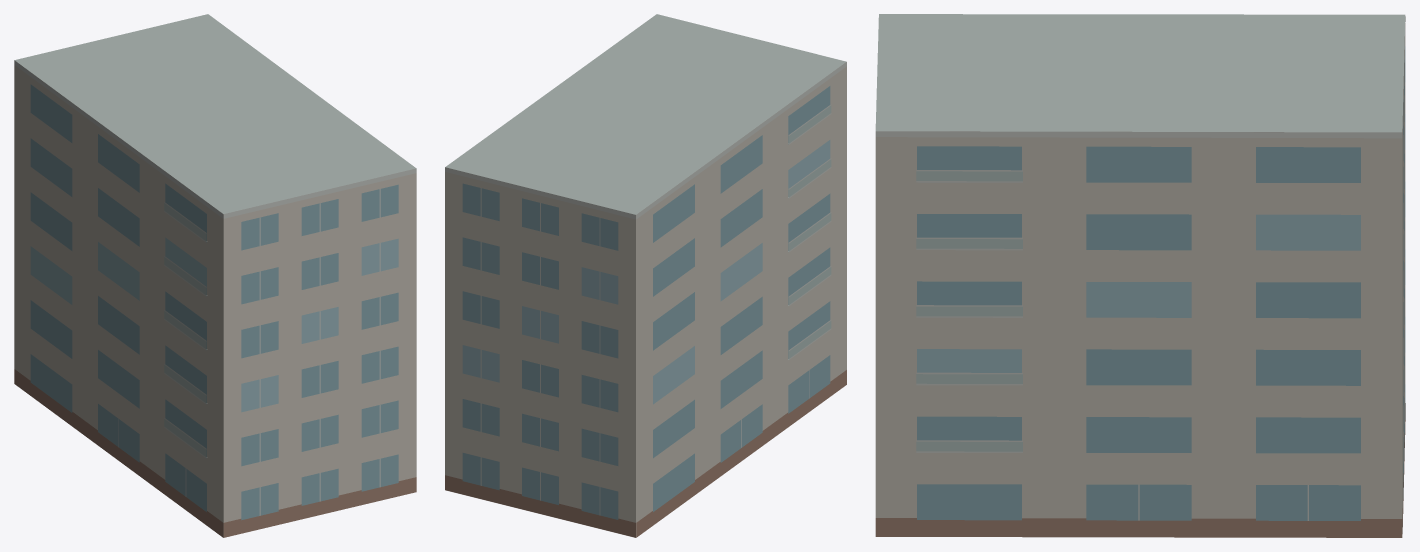
File: survey-upis-33015672.glb
3 views of the same model, side by side, from view 1: azimuth 30°, elevation 25°; view 2: azimuth 150°, elevation 25°; view 3: azimuth 270°, elevation 25° (orthographic). The views are drawn at different scales.
Visible parts, largest first — view 1: survey-upis-33015672.tmp; view 2: survey-upis-33015672.tmp; view 3: survey-upis-33015672.tmp.
Part boxes in pixels (bbox=[...]): survey-upis-33015672.tmp: bbox=[14, 14, 416, 537]; survey-upis-33015672.tmp: bbox=[445, 14, 846, 537]; survey-upis-33015672.tmp: bbox=[875, 14, 1405, 537].
Size of the model in its own units: 10.62 by 16.9 by 20.02.
